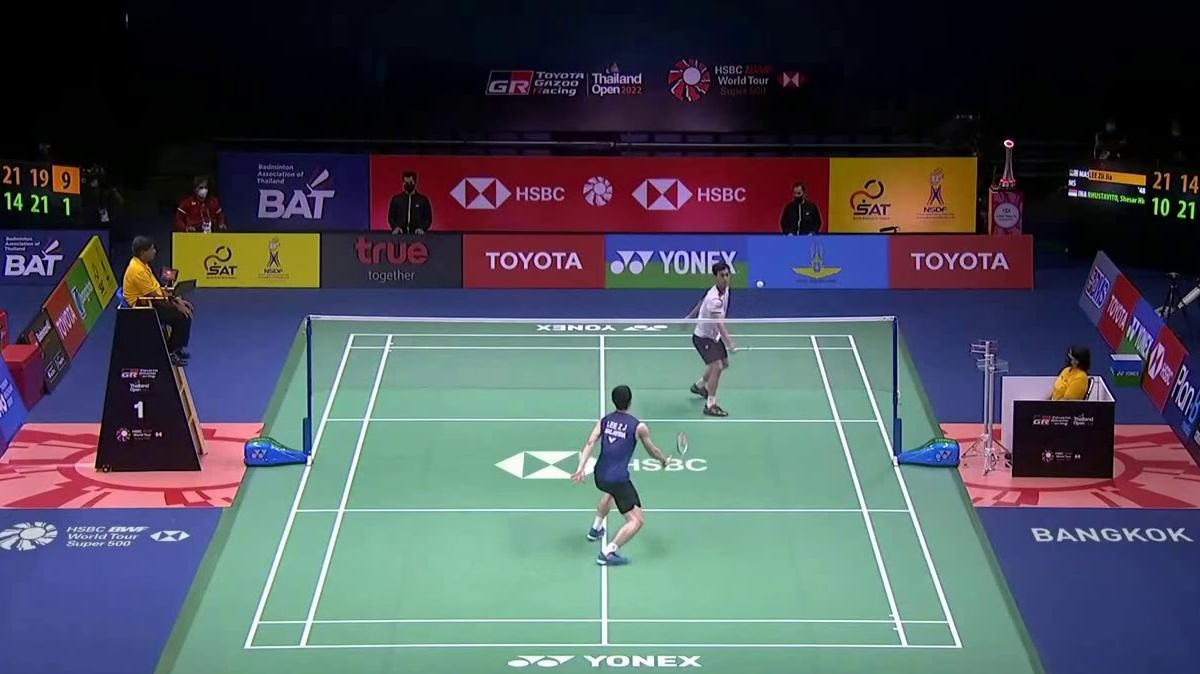racket: (661, 430, 689, 469), (730, 340, 775, 358)
shuttle: (755, 280, 765, 289)
